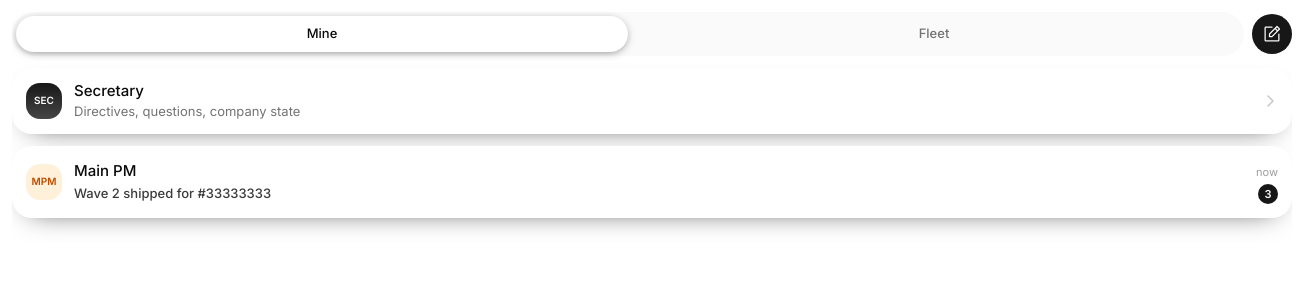
it: TgChatTab — threads › opens a Mine thread, renders agent markdown, clears unread
The width and height of the screenshot is (1304, 282).
Step 1. Click the text "Main PM" → (105, 171), box x1=74 y1=160 x2=136 y2=182
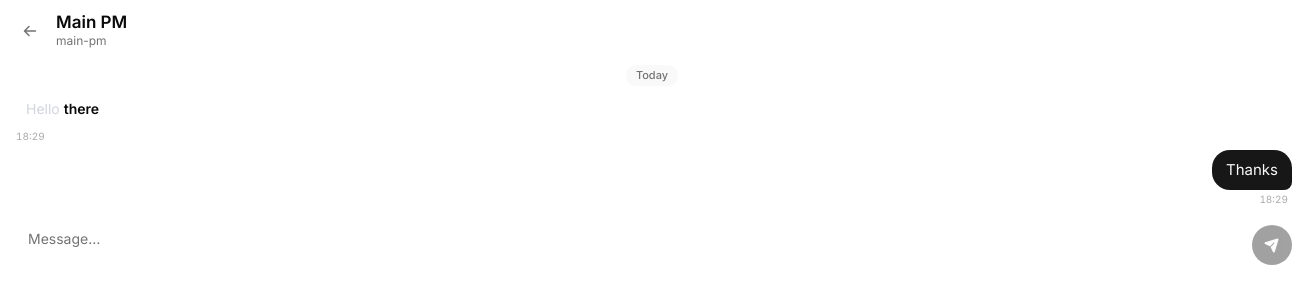
Check: the text "Thanks" is shown, box x1=1226 y1=158 x2=1278 y2=182
